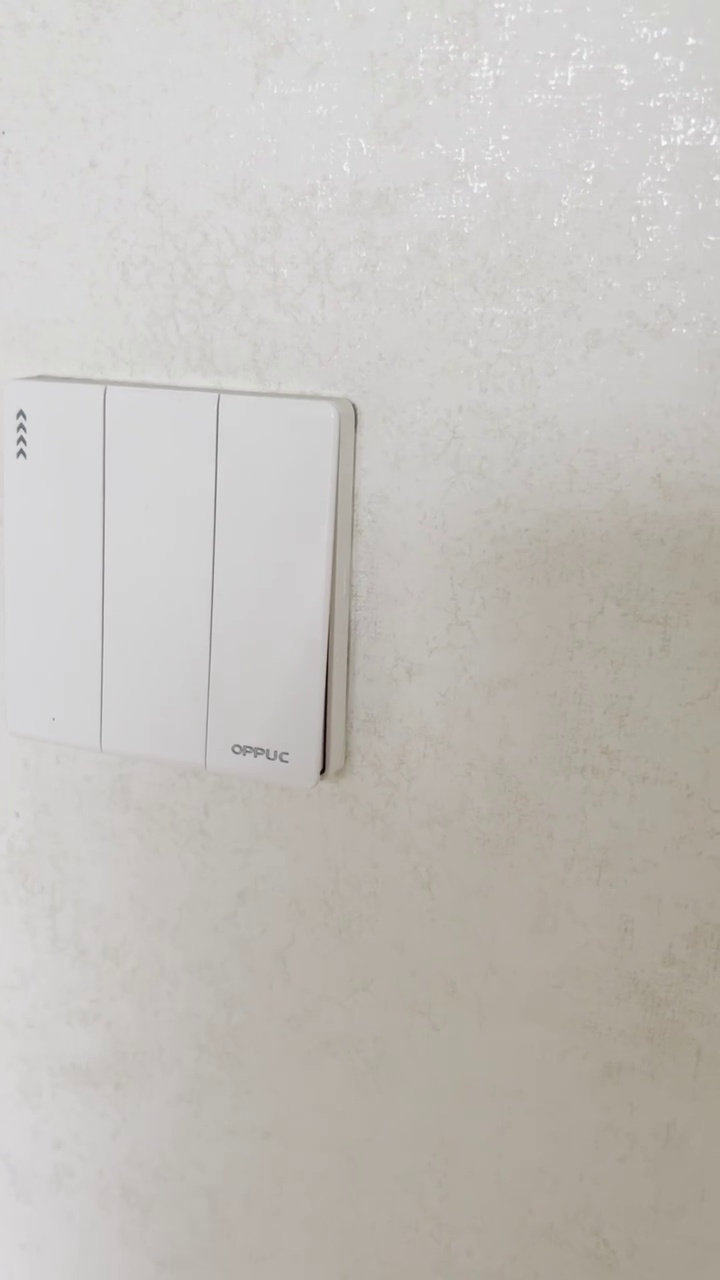button1: (212, 396, 335, 781), (94, 385, 215, 761), (10, 383, 102, 746)
